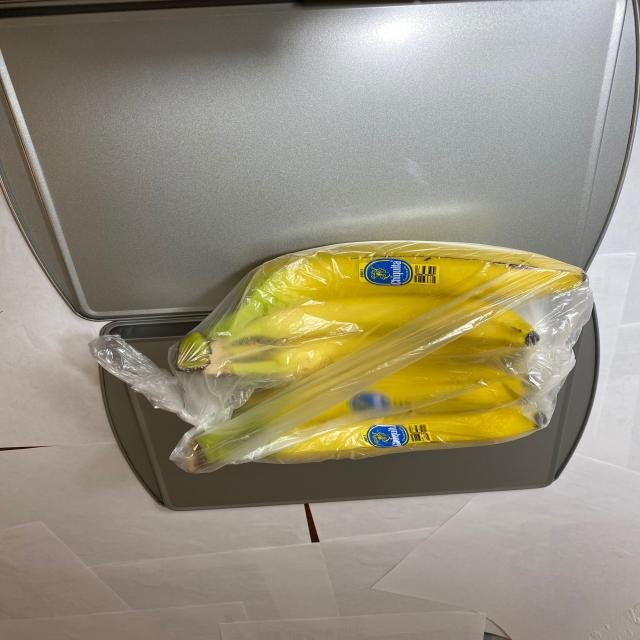banana: (153, 231, 602, 482)
